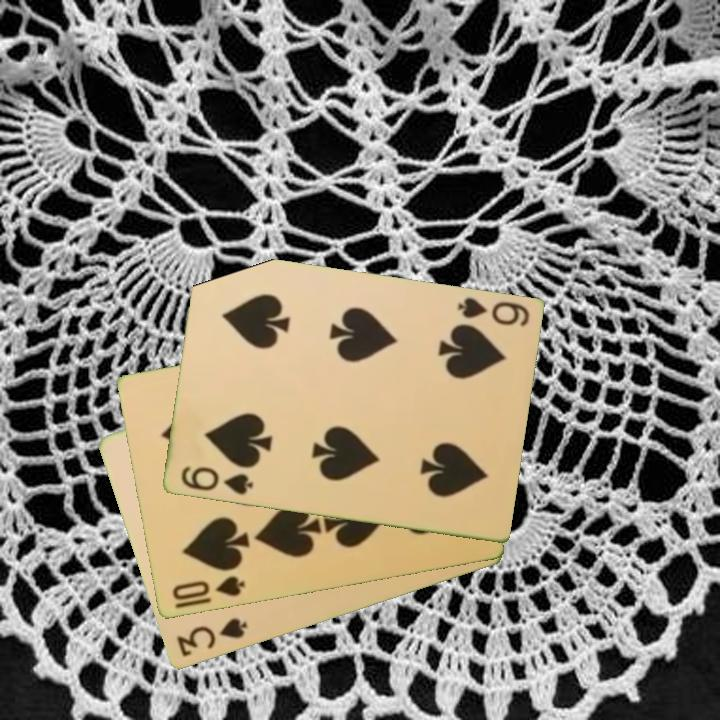10s: (168, 573, 248, 604)
3s: (172, 614, 250, 660)
6s: (177, 462, 256, 498), (454, 294, 532, 330)
